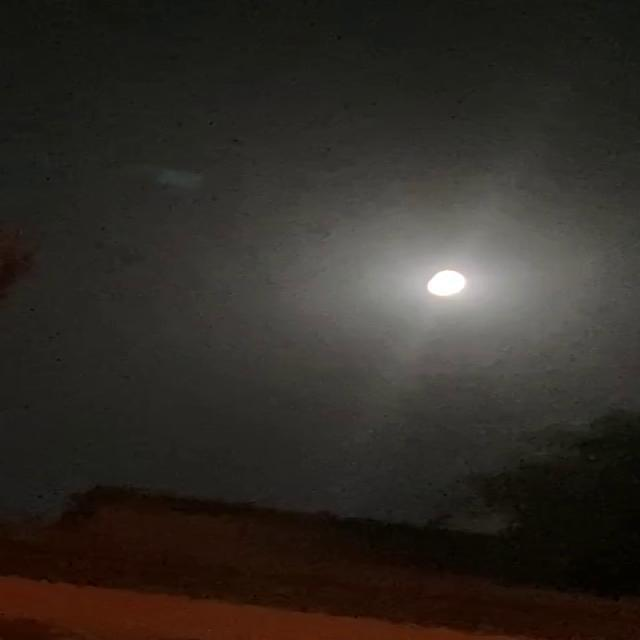moon: (348, 261, 412, 291)
